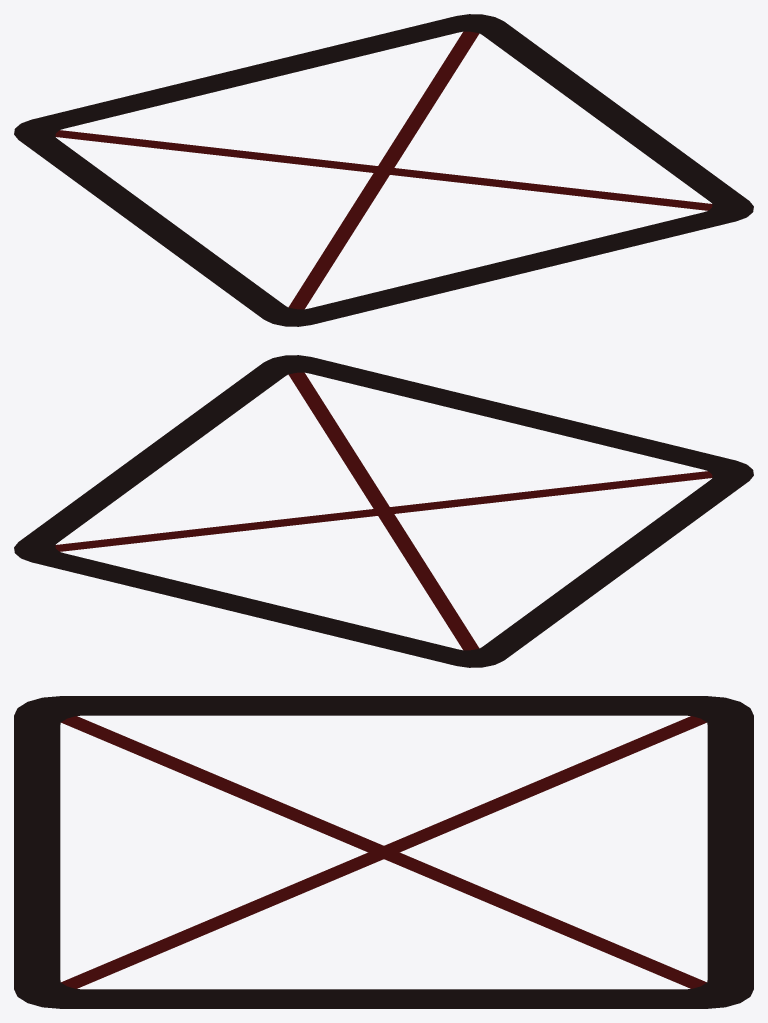
Rendered from IconFrameDisabled.obj.
3 views of the same model, one above another, from view 1: azimuth 30°, elevation 25°; view 2: azimuth 150°, elevation 25°; view 3: azimuth 270°, elevation 25° (orthographic). The views are drawn at different scales.
Parts seen in each view (by area): view 1: Plane; view 2: Plane; view 3: Plane.
Boxes of the visible parts, x1,y1,x2,y2 form: Plane: [14, 14, 753, 326]; Plane: [14, 355, 753, 667]; Plane: [14, 696, 753, 1008].
Size of the model in its own units: 1 by 0 by 1.
